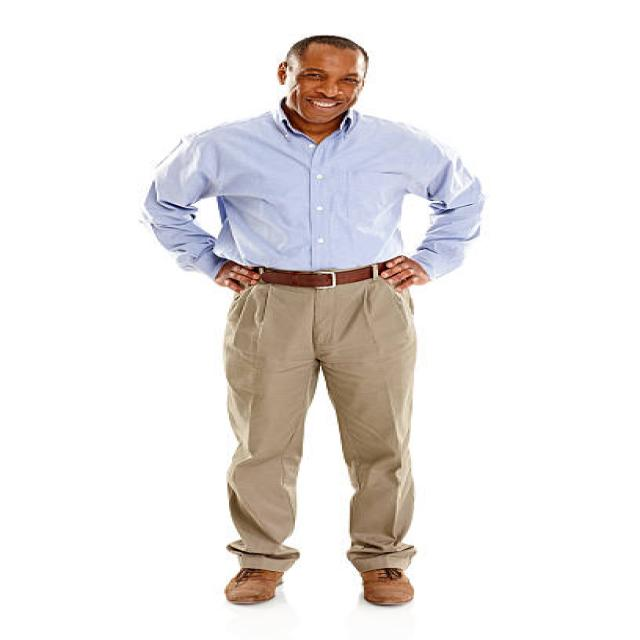Edited images: (117, 28, 504, 620)
